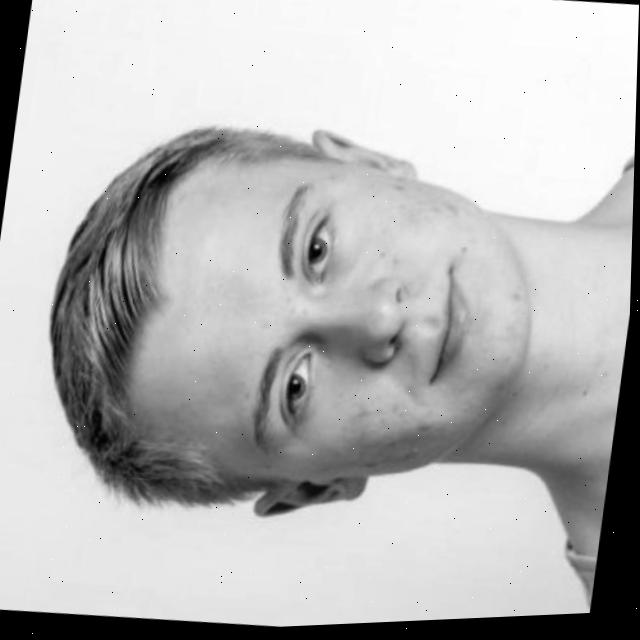Acne: (328, 377, 430, 467), (371, 178, 456, 234)
